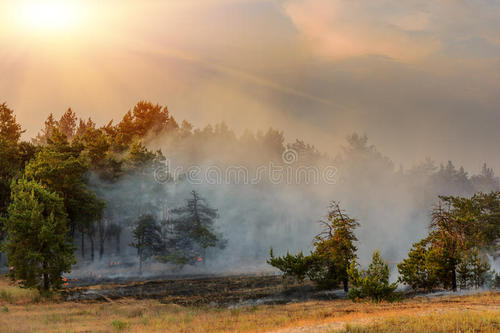smoke: (92, 171, 274, 279), (280, 157, 431, 248)
